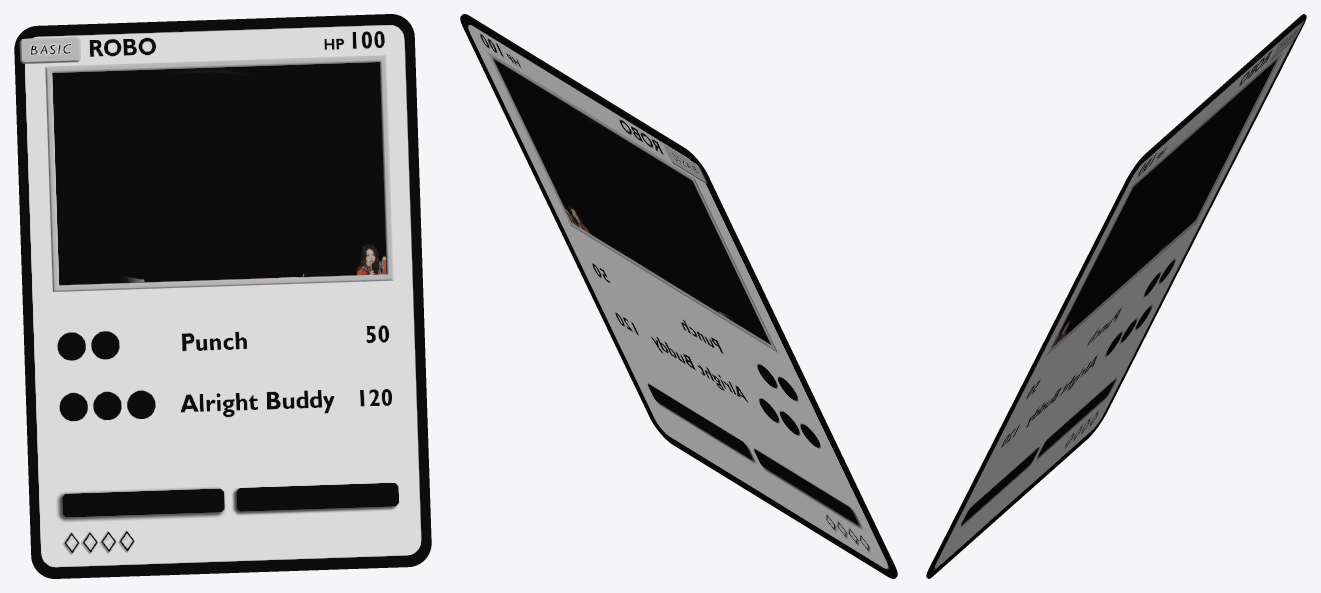
The model's file is Robo.glb.
3 views of the same model, side by side, from view 1: azimuth 30°, elevation 25°; view 2: azimuth 150°, elevation 25°; view 3: azimuth 270°, elevation 25° (orthographic). The views are drawn at different scales.
Visible parts, largest first — view 1: Plane; view 2: Plane; view 3: Plane.
Boxes of the visible parts, x1,y1,x2,y2 form: Plane: [14, 14, 431, 578]; Plane: [460, 14, 897, 578]; Plane: [926, 14, 1306, 578].
Bounding box in the file's own units: 3.86 × 4.26 × 3.16.
Materials: 1 (1 with a texture image).
